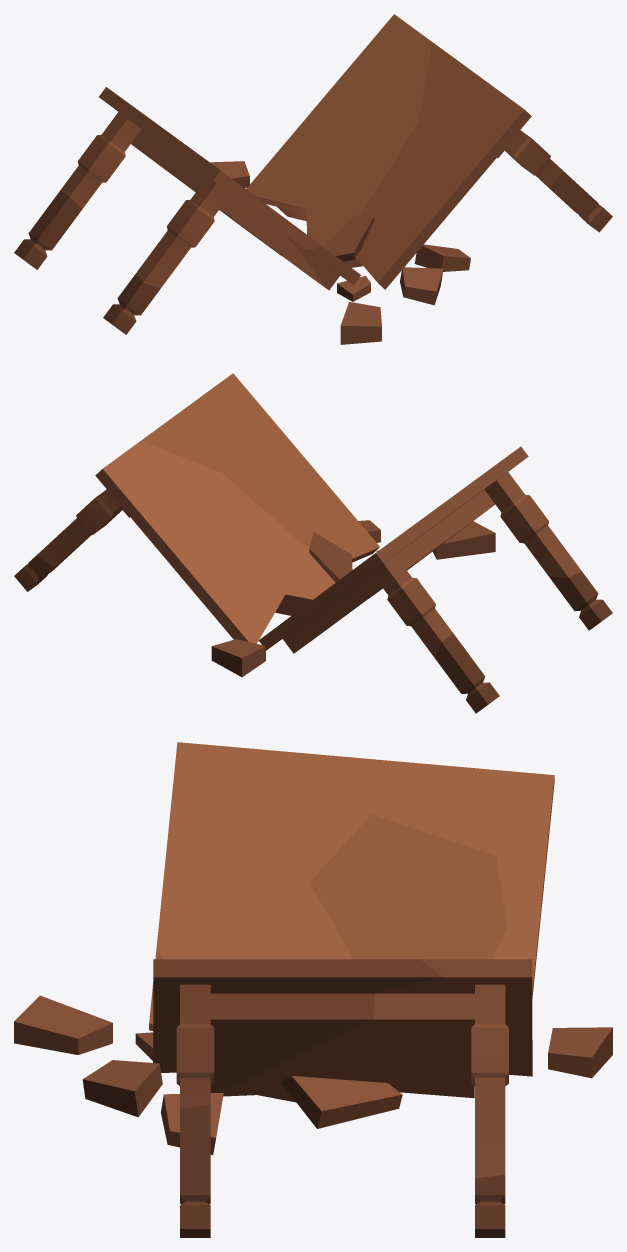
Rendered from AI_Prop_Table_01_Broken.fbx.
3 views of the same model, one above another, from view 1: azimuth 30°, elevation 25°; view 2: azimuth 150°, elevation 25°; view 3: azimuth 270°, elevation 25° (orthographic). The views are drawn at different scales.
Visible parts, largest first — view 1: AI_Prop_Table_01_Broken; view 2: AI_Prop_Table_01_Broken; view 3: AI_Prop_Table_01_Broken.
Part boxes in pixels (bbox=[...]): AI_Prop_Table_01_Broken: bbox=[14, 14, 612, 344]; AI_Prop_Table_01_Broken: bbox=[14, 373, 612, 713]; AI_Prop_Table_01_Broken: bbox=[14, 742, 612, 1237].
Size of the model in its own units: 4.61 by 1.57 by 3.33.
